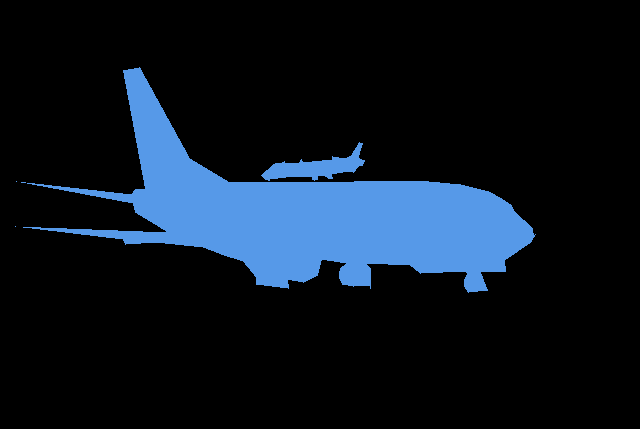Airplane: (15, 67, 535, 292), (261, 142, 364, 181)
